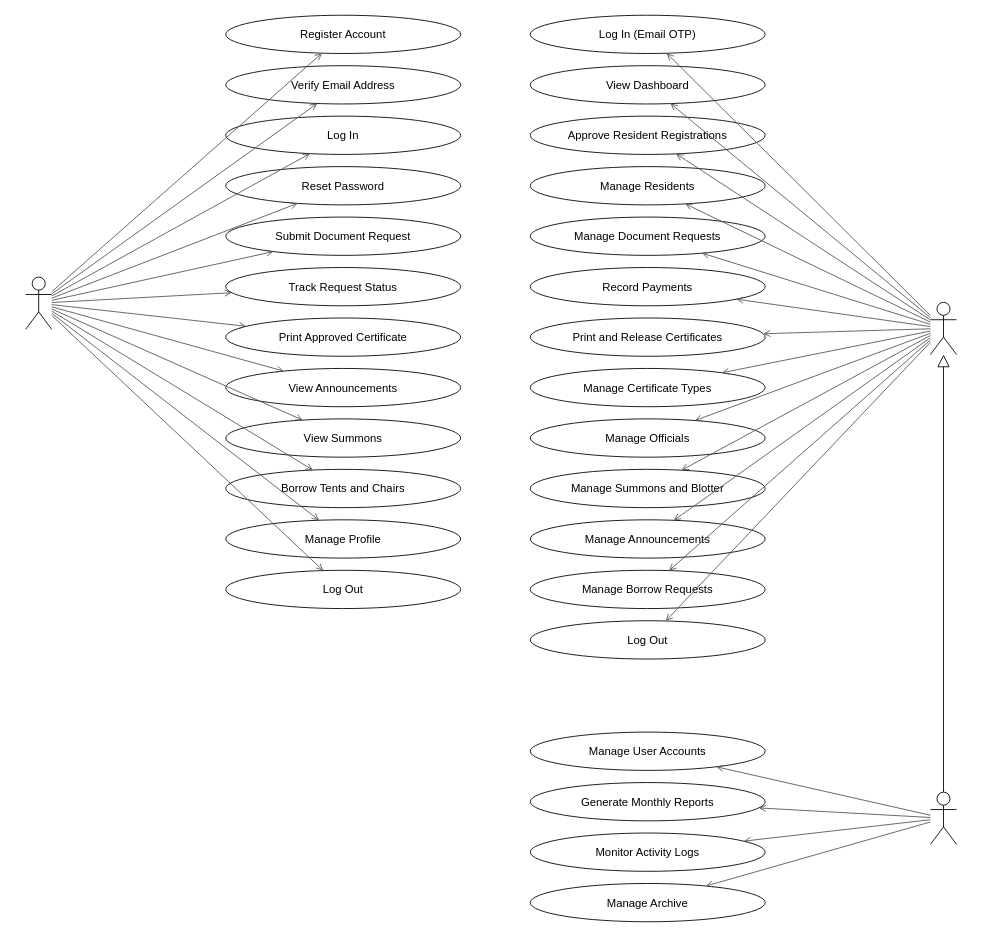
This 995x937 diagram has some shape labels left out. Each missing label, with the centre of its shape:
Administrator: (x=943, y=817)
Resident: (x=38, y=302)
Staff: (x=943, y=328)
